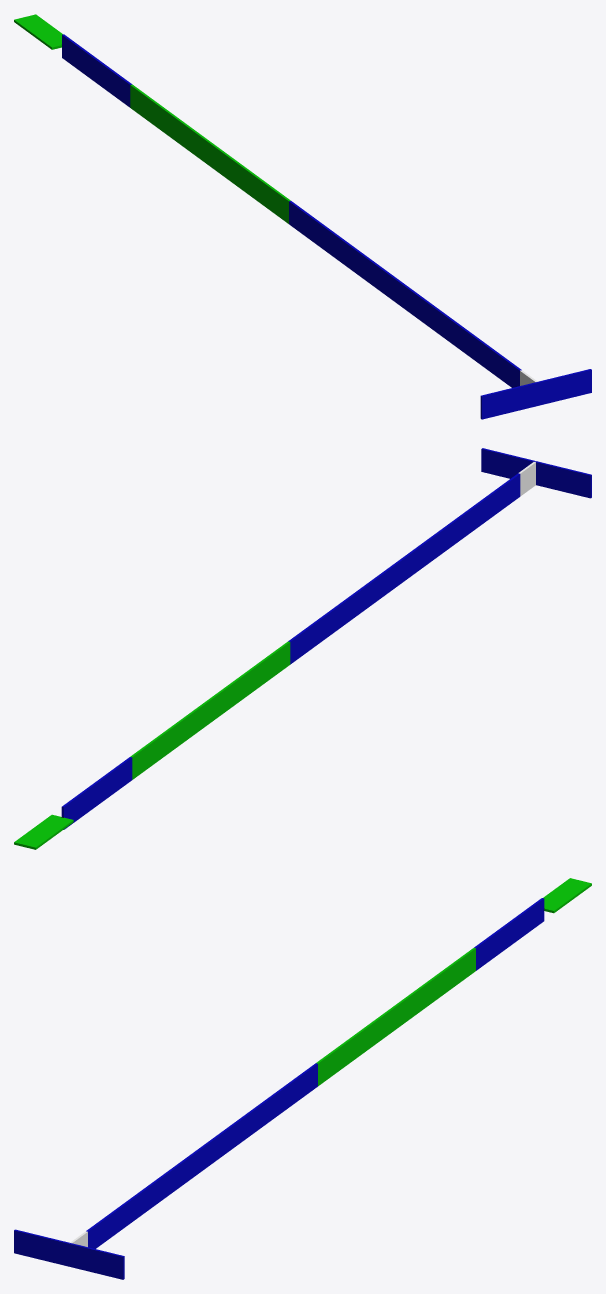
File: yannic_robot.dae
3 views of the same model, one above another, from view 1: azimuth 30°, elevation 25°; view 2: azimuth 150°, elevation 25°; view 3: azimuth 330°, elevation 25° (orthographic).
Visible parts, largest first — view 1: link1, link2, base_link, link3, left_gripper; view 2: link1, link2, base_link, link3, left_gripper; view 3: link1, link2, base_link, link3, left_gripper.
Boxes of the visible parts, x1,y1,x2,y2 form: link1: (289, 201, 521, 387); link2: (130, 84, 290, 223); base_link: (480, 369, 591, 419); link3: (62, 34, 132, 107); left_gripper: (14, 14, 62, 49); link1: (288, 473, 520, 664); link2: (130, 641, 290, 779); base_link: (481, 448, 591, 498); link3: (61, 757, 132, 829); left_gripper: (14, 814, 73, 849); link1: (86, 1063, 317, 1248); link2: (316, 948, 475, 1086); base_link: (14, 1229, 124, 1279); link3: (474, 898, 544, 970); left_gripper: (543, 878, 591, 913).
Bounding box in the file's own units: 0.05 × 0.4045 × 0.01.
